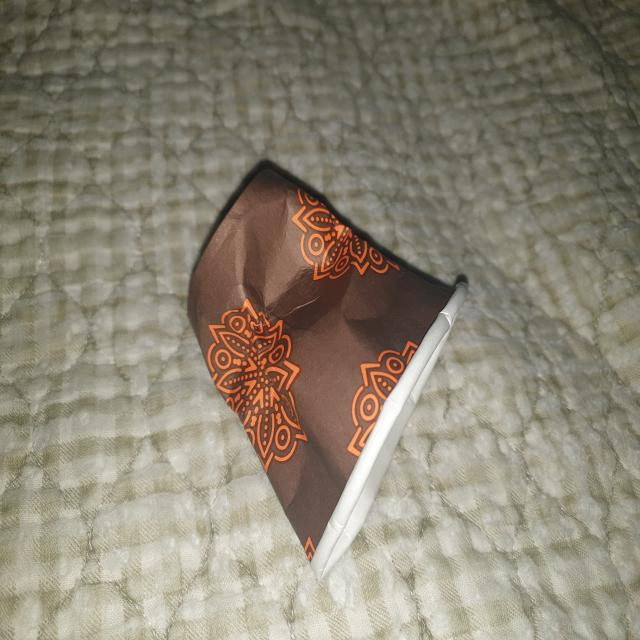cups: (175, 149, 476, 589)
